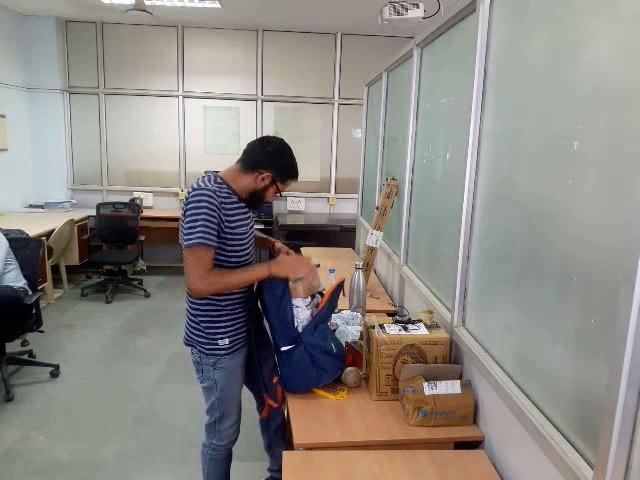shoplifting: (168, 239, 446, 361)
